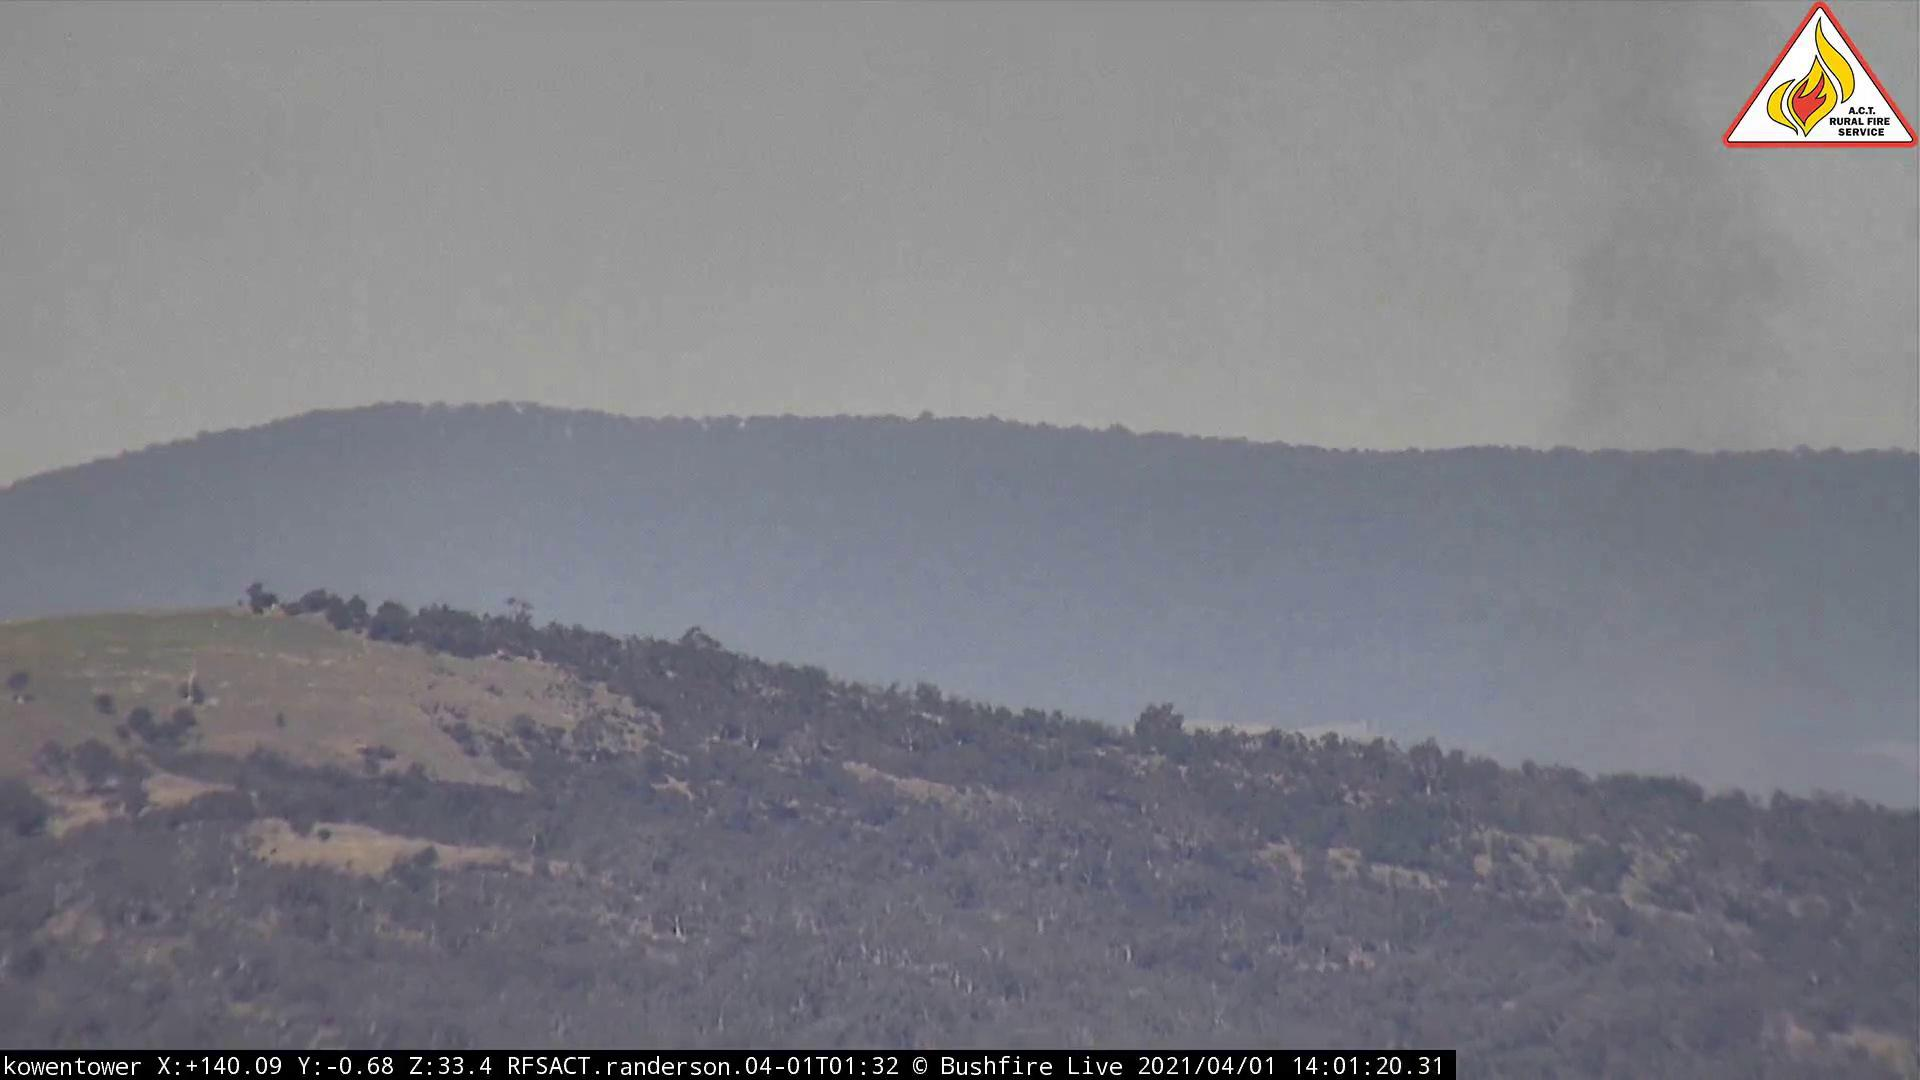Smoke: (1184, 3, 1879, 824)
